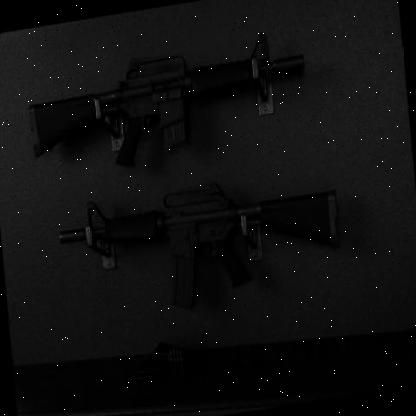rifle: (56, 166, 350, 324), (20, 28, 314, 185)
